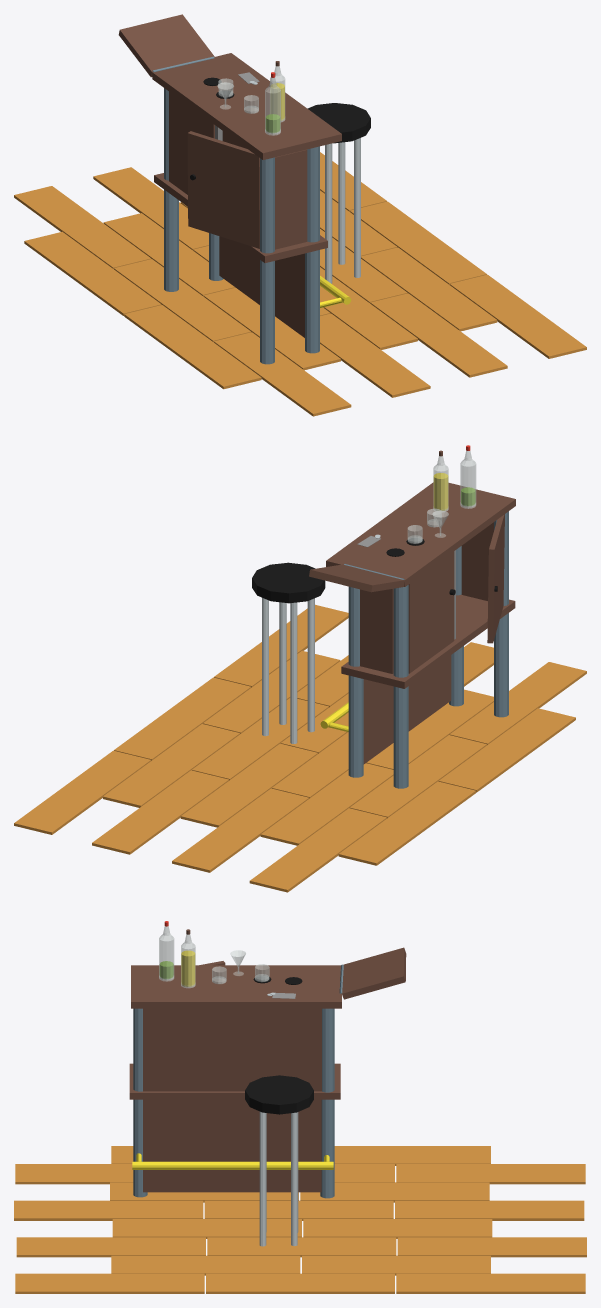
The model's file is scene_wgjKtca4S5.glb.
3 views of the same model, one above another, from view 1: azimuth 30°, elevation 25°; view 2: azimuth 150°, elevation 25°; view 3: azimuth 270°, elevation 25° (orthographic). The views are drawn at different scales.
Parts seen in each view (by area): view 1: group2002611204, group976383494, group1456350140, group108299951, group2117258881, group99257900, group1795789033, group1052066835, group581472141, group761840214, group844349973, group1192336760 (+18 smaller); view 2: group2002611204, group1456350140, group761840214, group1963728854, group1795789033, group581472141, group701100297, group1220315396, group461050957, group108299951, group1398152776, group1883303688 (+24 smaller); view 3: group1524081960, group761840214, group2002611204, group1456350140, group1220315396, group99257900, group844349973, group259729377, group581472141, group701100297, group2117258881, group461050957 (+19 smaller).
Boxes of the visible parts, x1,y1,x2,y2 form: group2002611204: (152, 53, 341, 159); group976383494: (187, 131, 259, 248); group1456350140: (307, 103, 370, 283); group108299951: (124, 305, 261, 389); group2117258881: (370, 293, 507, 377); group99257900: (449, 274, 586, 358); group1795789033: (24, 231, 161, 315); group1052066835: (361, 247, 497, 331); group581472141: (14, 186, 151, 268); group761840214: (219, 236, 304, 337); group844349973: (349, 201, 486, 284); group1192336760: (214, 332, 351, 416); group2002611204: (326, 482, 515, 586); group1456350140: (252, 562, 325, 743); group761840214: (363, 655, 451, 764); group1963728854: (408, 551, 454, 673); group1795789033: (338, 781, 475, 865); group581472141: (249, 808, 386, 892); group701100297: (92, 770, 229, 854); group1220315396: (14, 750, 151, 834); group461050957: (172, 788, 309, 872); group108299951: (438, 708, 575, 792); group1398152776: (180, 743, 317, 827); group1883303688: (103, 724, 240, 807); group1524081960: (143, 1008, 321, 1091); group761840214: (143, 1099, 321, 1192); group2002611204: (131, 965, 341, 1008); group1456350140: (245, 1075, 313, 1246); group1220315396: (396, 1273, 585, 1293); group99257900: (15, 1273, 204, 1293); group844349973: (206, 1273, 394, 1293); group259729377: (14, 1200, 203, 1220); group581472141: (396, 1164, 585, 1184); group701100297: (397, 1237, 586, 1257); group2117258881: (16, 1237, 205, 1257); group461050957: (395, 1200, 584, 1220).
Bounding box in the file's own units: 2.55 × 2.15 × 4.24.
